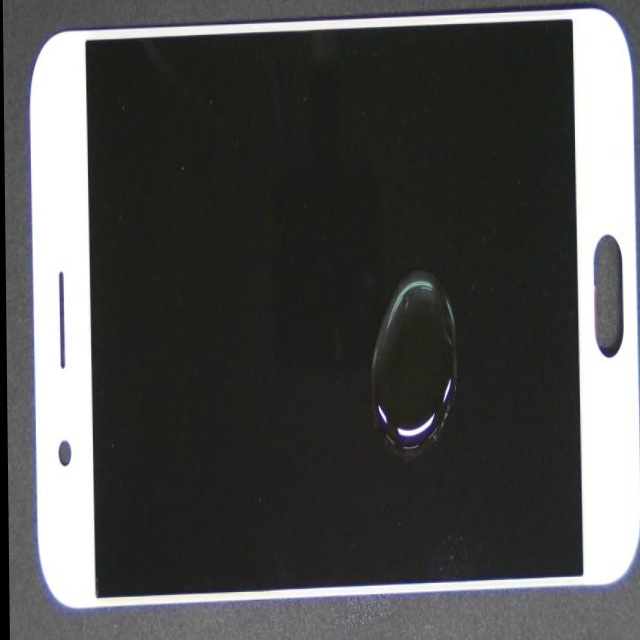oil: (227, 206, 640, 594)
